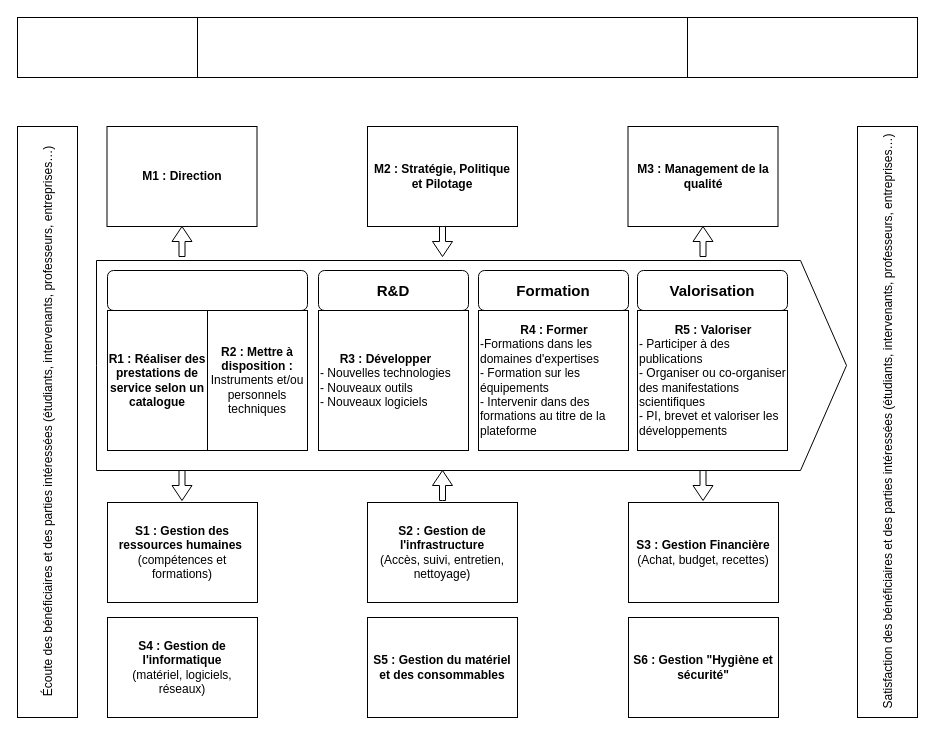
Some shapes in this 935 by 735 pixel diagram are drawn without their labels. The shapes that lost their labels are listed below. From the top down, each one's box as (x1, y1, x2, y2) in pixels, then its label:
(16, 16, 198, 78): IRIS
(196, 16, 688, 78): CARTOGRAPHIE DES PROCESSUS Date de création : 26/01/2024, L. Barbé
(686, 16, 918, 78): IRIS_Cartographie_Processus Version n°1 28/01/2025
(106, 270, 308, 310): SERVICE
